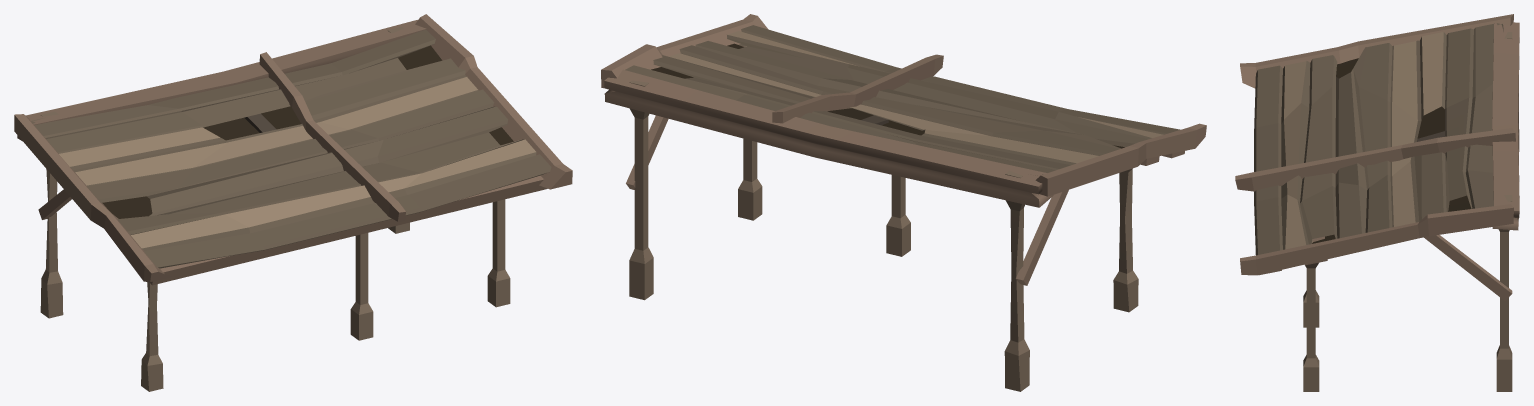
The model's file is SM_Bld_Shanty_SideAttachment_04.glb.
The picture shows the model from 3 angles, left to right: view 1: azimuth 30°, elevation 25°; view 2: azimuth 150°, elevation 25°; view 3: azimuth 270°, elevation 25°; orthographic projection. The views are drawn at different scales.
Visible parts, largest first — view 1: SM_Bld_Shanty_SideAttachment_04; view 2: SM_Bld_Shanty_SideAttachment_04; view 3: SM_Bld_Shanty_SideAttachment_04.
Part boxes in pixels (x1,y1,x2,y2): SM_Bld_Shanty_SideAttachment_04: (14,14,572,391); SM_Bld_Shanty_SideAttachment_04: (601,14,1206,391); SM_Bld_Shanty_SideAttachment_04: (1235,14,1519,391).
Size of the model in its own units: 0.0558 by 0.0259 by 0.0339.
Materials: 1 (1 with a texture image).
